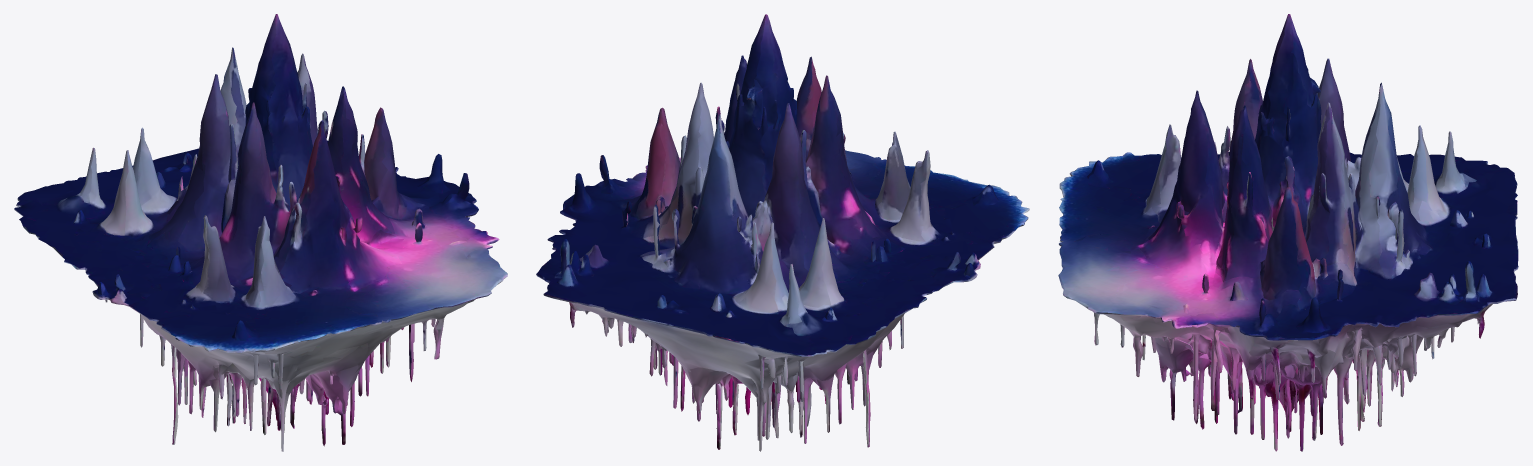
Rendered from outer-shoal-north-generated-2026-05-17T20-53-16-392Z.medium.glb.
3 views of the same model, side by side, from view 1: azimuth 30°, elevation 25°; view 2: azimuth 150°, elevation 25°; view 3: azimuth 270°, elevation 25° (orthographic). The views are drawn at different scales.
Parts seen in each view (by area): view 1: temp_mesh.ply; view 2: temp_mesh.ply; view 3: temp_mesh.ply.
Boxes of the visible parts, x1=… form: temp_mesh.ply: x1=14, y1=14, x2=507, y2=451; temp_mesh.ply: x1=536, y1=14, x2=1029, y2=451; temp_mesh.ply: x1=1058, y1=14, x2=1518, y2=451.
Bounding box in the file's own units: 1.95 × 1.97 × 1.98.
1 material, 1 textured.
